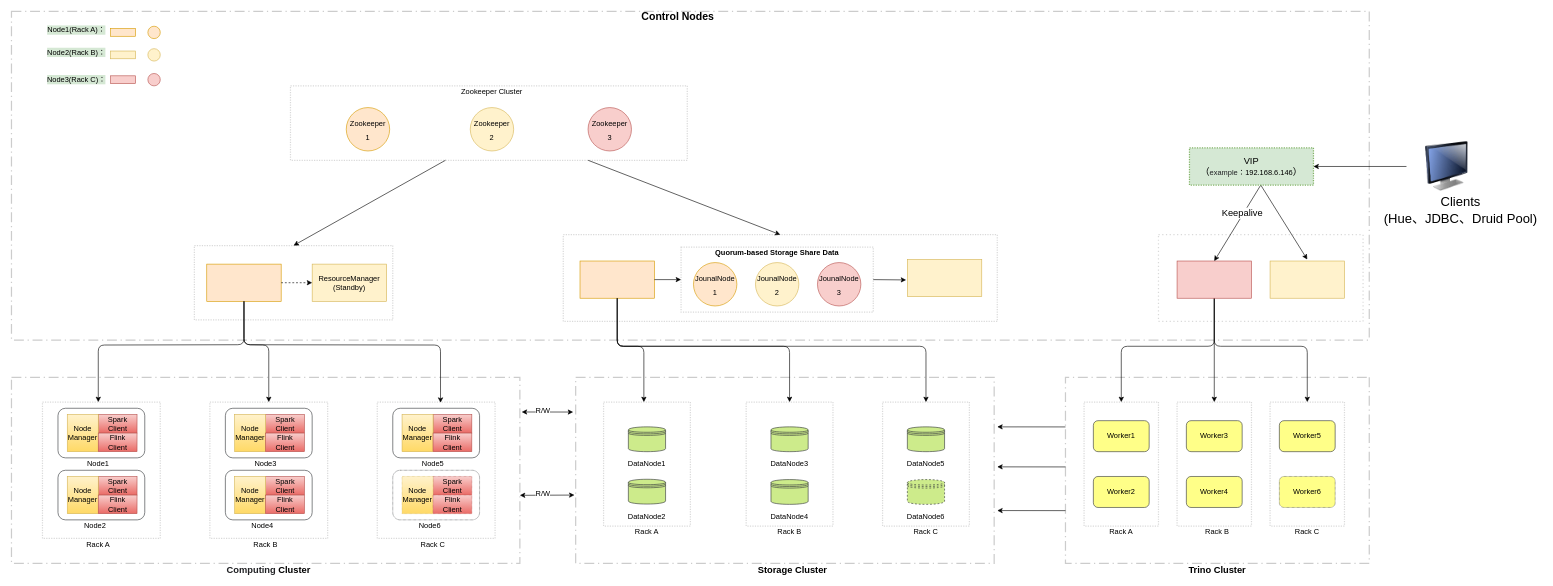
The diagram is 1553 pixels wide and 586 high, and some of its shapes have lost their labels. Here are the shapes that lost their labels. From the top down, the centre of each, then its label:
At point (243, 282): "ResourceManager (Active)".
At point (616, 279): "NameNode (Active)".
At point (944, 278): "NameNode (Standby) )".
At point (1213, 279): "Coordinator".
At point (1306, 279): "Coordinator (Standy)".
